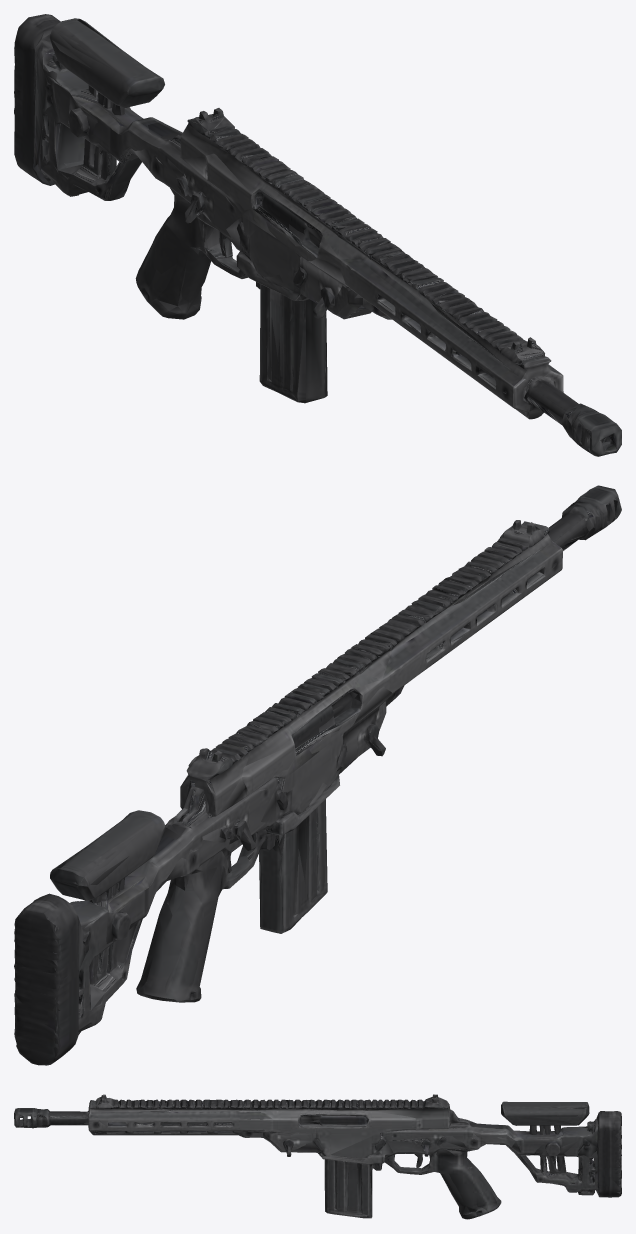
Rendered from precision_dmr.glb.
3 views of the same model, one above another, from view 1: azimuth 30°, elevation 25°; view 2: azimuth 150°, elevation 25°; view 3: azimuth 270°, elevation 25° (orthographic). The views are drawn at different scales.
Visible parts, largest first — view 1: model, mesh_lod; view 2: model, mesh_lod; view 3: model, mesh_lod.
Boxes of the visible parts, x1,y1,x2,y2 form: model: [14, 14, 621, 456]; mesh_lod: [14, 19, 621, 456]; model: [14, 485, 621, 1065]; mesh_lod: [14, 486, 617, 1063]; model: [14, 1094, 621, 1219]; mesh_lod: [14, 1095, 621, 1218].
Bounding box in the file's own units: 0.0755 × 0.2294 × 1.05.
1 material, 1 textured.
